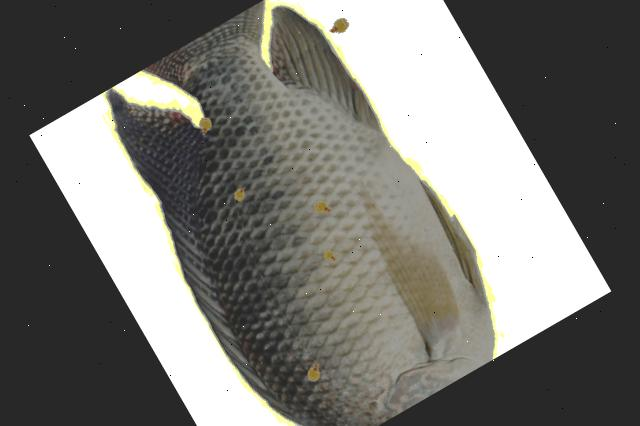Parasitic Disease: (108, 0, 492, 426)
